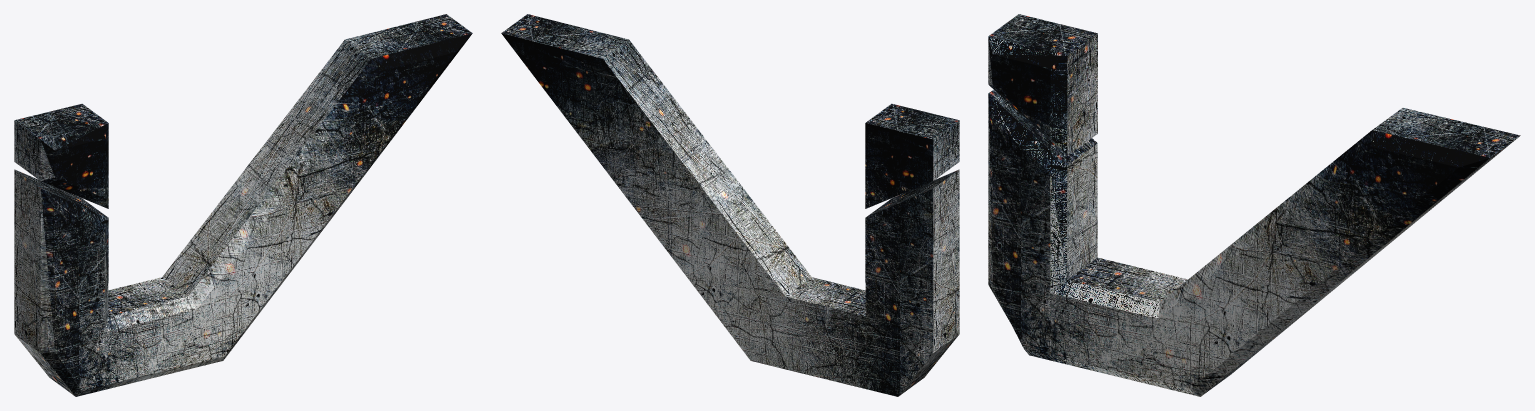
The picture shows the model from 3 angles, left to right: view 1: azimuth 30°, elevation 25°; view 2: azimuth 150°, elevation 25°; view 3: azimuth 330°, elevation 25°; orthographic projection. The views are drawn at different scales.
Visible parts, largest first — view 1: U; view 2: U; view 3: U.
Boxes of the visible parts, x1=… form: U: x1=14, y1=14, x2=472, y2=396; U: x1=501, y1=14, x2=959, y2=396; U: x1=988, y1=14, x2=1520, y2=396.
Size of the model in its own units: 94.71 by 55.86 by 12.
1 material, 1 textured.
